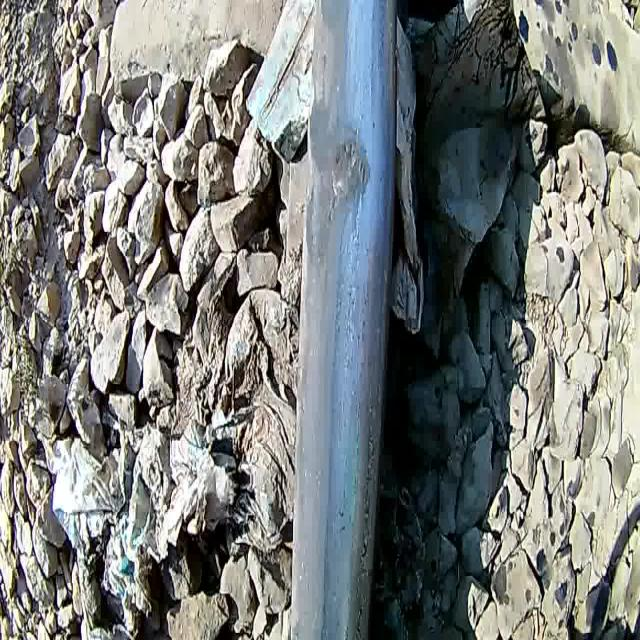Squats: (302, 124, 402, 239)
